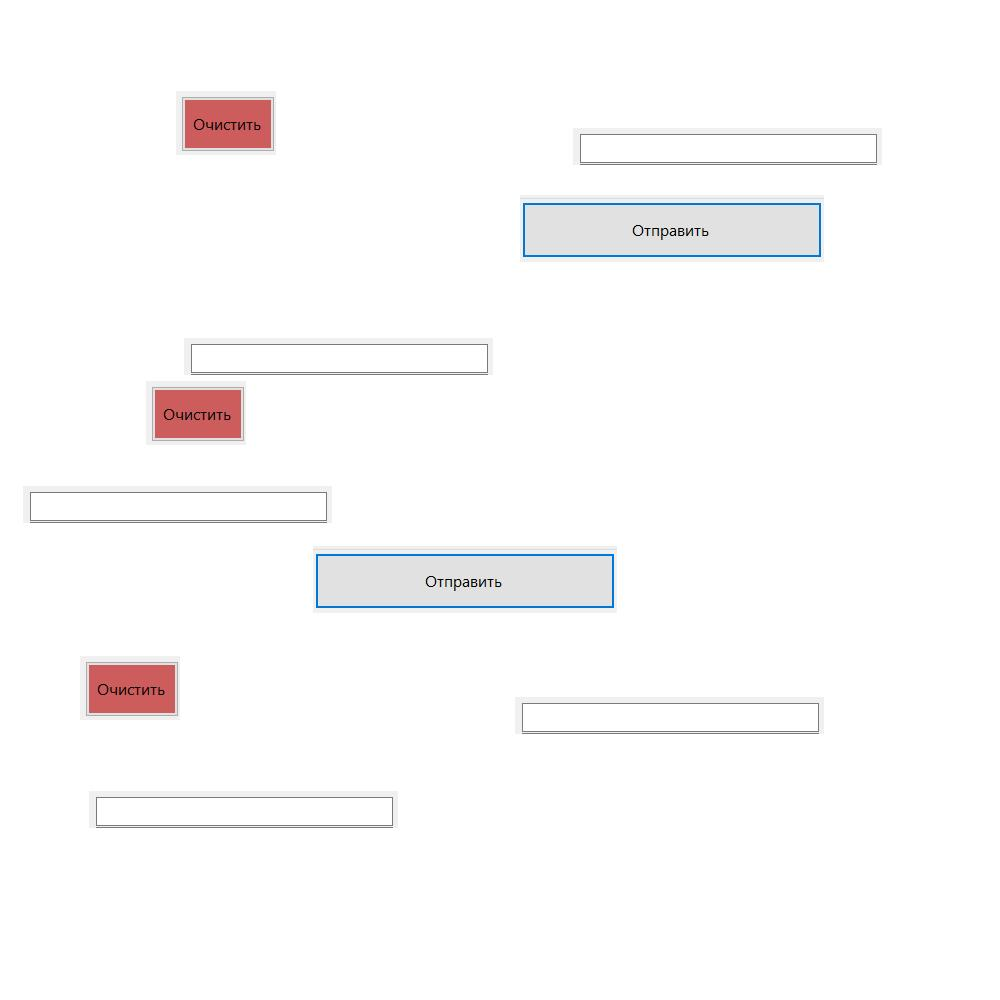Button: (520, 195, 824, 262), (313, 546, 617, 613), (176, 91, 276, 155), (146, 381, 246, 445), (80, 656, 180, 720)
EditText-: (89, 791, 398, 828), (23, 486, 332, 523), (184, 338, 493, 375), (515, 697, 824, 734), (573, 128, 882, 165)
